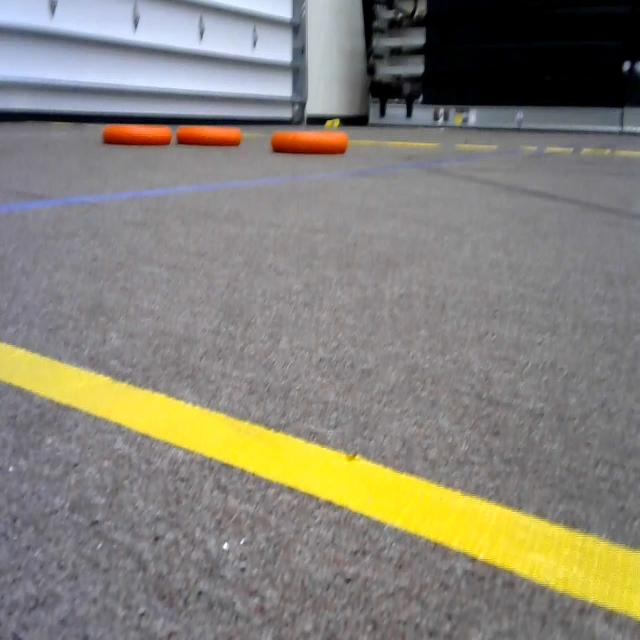note: (100, 106, 175, 152), (175, 116, 252, 153), (271, 124, 355, 156)
